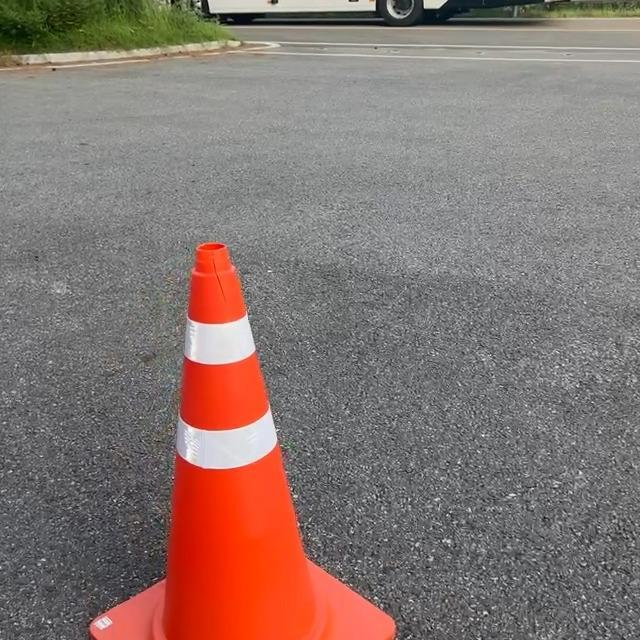fallen_object: (95, 209, 422, 640)
